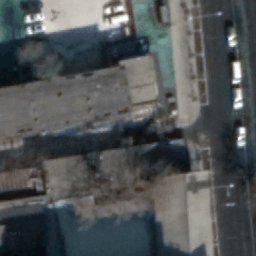car: (227, 24, 239, 47), (231, 61, 243, 84), (232, 87, 244, 110), (235, 125, 247, 148)
